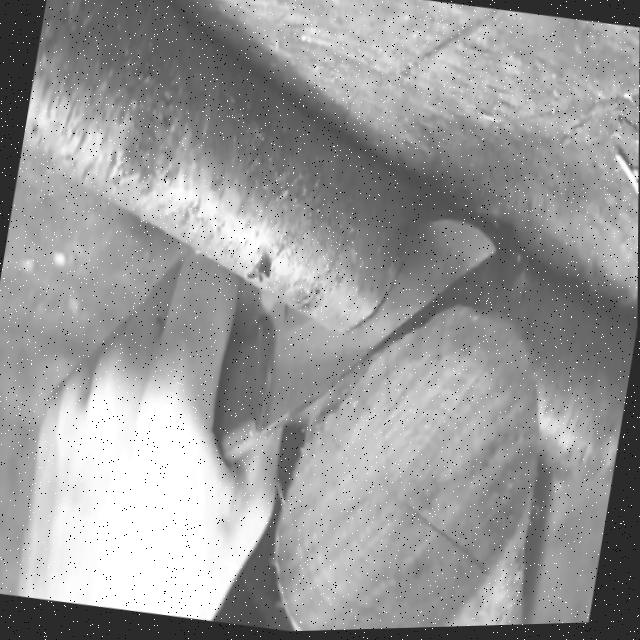knife: (206, 140, 510, 518)
